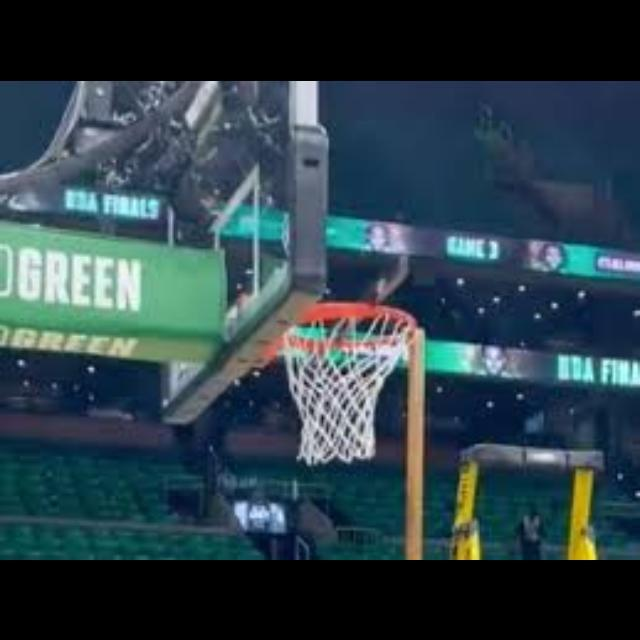rim: (286, 302, 414, 460)
